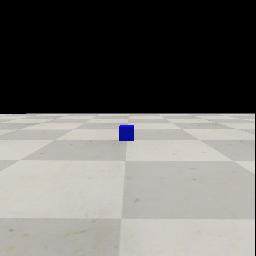box: (119, 125, 134, 141)
